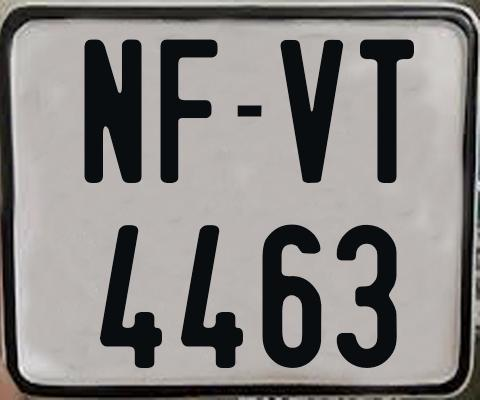3: (336, 223, 402, 372)
4: (180, 224, 246, 368), (97, 222, 159, 366)
6: (259, 222, 318, 366)
F: (160, 38, 220, 188)
N: (82, 36, 145, 180)
T: (359, 36, 418, 184)
V: (280, 38, 348, 182)
